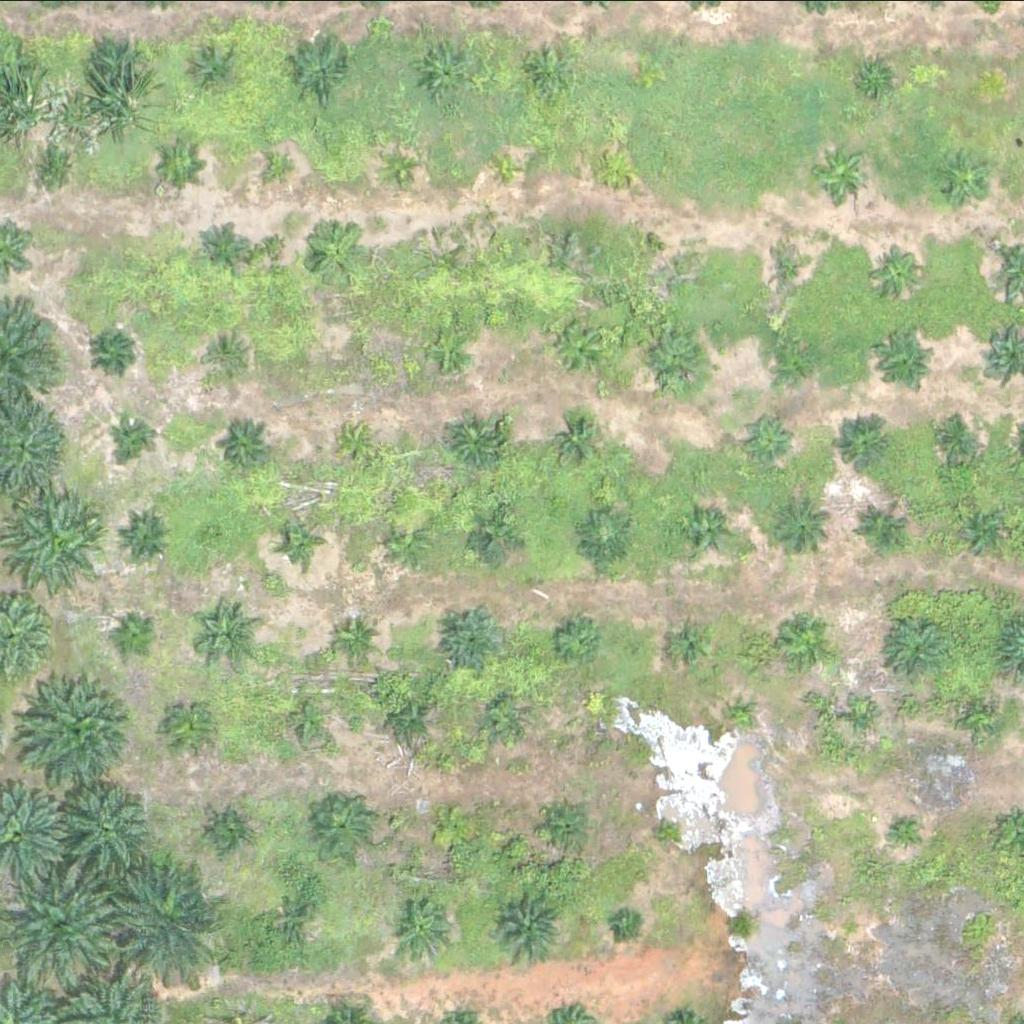Kelapa_Sawit: (105, 855, 231, 980), (25, 676, 139, 789), (7, 488, 120, 600), (66, 782, 154, 870), (879, 612, 955, 687), (491, 891, 567, 966), (934, 149, 997, 212), (772, 490, 835, 553), (205, 605, 268, 668), (159, 699, 222, 762), (643, 332, 706, 395), (288, 33, 351, 96), (811, 142, 874, 205), (441, 603, 504, 666), (418, 37, 481, 100), (88, 32, 151, 95), (276, 688, 339, 751), (841, 411, 904, 474), (879, 328, 942, 390), (314, 796, 377, 858), (393, 896, 456, 958), (445, 409, 508, 471), (546, 315, 609, 377), (306, 219, 369, 281), (263, 892, 326, 954), (872, 246, 923, 296), (580, 509, 631, 559), (192, 41, 243, 91), (462, 511, 513, 561), (384, 691, 435, 741), (327, 615, 378, 665), (478, 690, 529, 740), (205, 811, 256, 861), (424, 802, 475, 852), (551, 614, 602, 664), (551, 416, 602, 466), (766, 242, 817, 292), (764, 330, 815, 380), (741, 412, 792, 462), (683, 504, 734, 554), (120, 511, 170, 561), (785, 615, 835, 665), (218, 417, 268, 467), (519, 47, 569, 97), (197, 221, 247, 271), (422, 321, 472, 371), (382, 518, 432, 568), (115, 610, 165, 660), (545, 796, 595, 846), (930, 414, 980, 464), (950, 506, 1000, 556), (855, 501, 905, 551), (668, 619, 718, 669), (162, 139, 200, 177), (90, 332, 128, 370), (263, 146, 301, 184), (382, 148, 420, 186), (489, 146, 527, 184), (589, 150, 627, 188), (336, 424, 374, 462), (281, 521, 319, 559), (860, 59, 898, 97), (116, 416, 154, 453), (214, 339, 252, 376), (343, 327, 381, 364), (641, 244, 679, 281), (34, 145, 71, 182), (614, 912, 640, 937), (970, 700, 996, 725), (725, 707, 750, 732), (853, 702, 878, 727), (896, 819, 921, 844), (652, 819, 677, 844), (841, 913, 866, 938)
